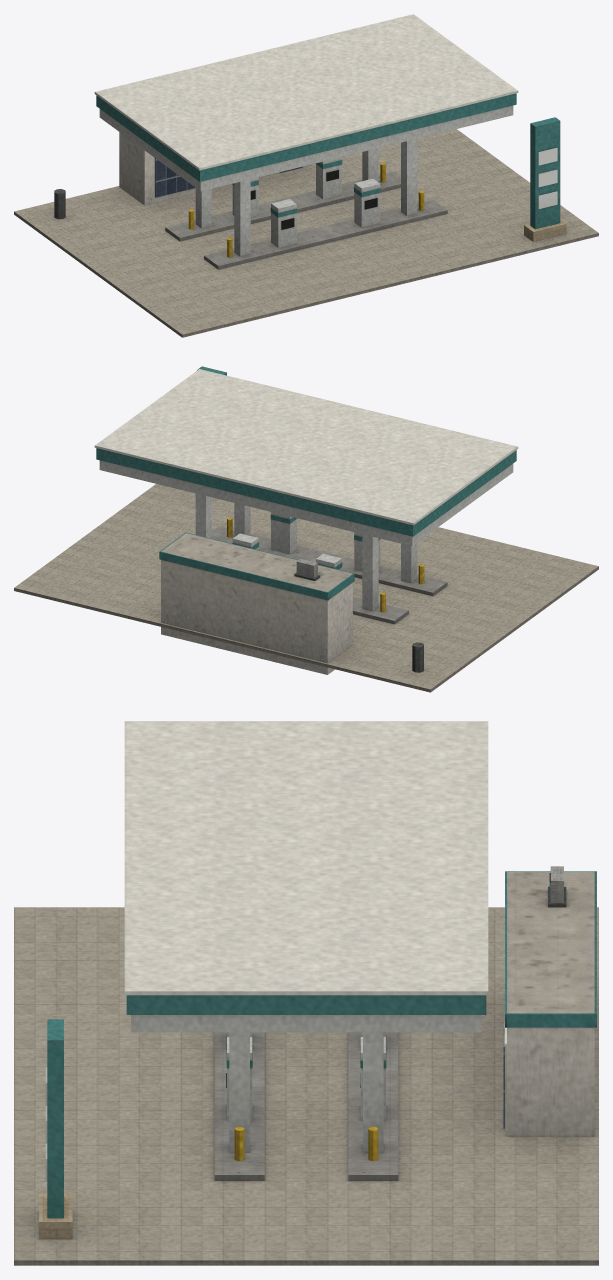
File: fuel_station.glb
3 renders of one model, top to bottom at view 1: azimuth 30°, elevation 25°; view 2: azimuth 150°, elevation 25°; view 3: azimuth 270°, elevation 25°, orthographic. The views are drawn at different scales.
Visible parts, largest first — view 1: fuel_station; view 2: fuel_station; view 3: fuel_station.
Part boxes in pixels (left/top/right/bottom): fuel_station: left=14, top=14, right=598, bottom=337; fuel_station: left=14, top=366, right=598, bottom=692; fuel_station: left=14, top=721, right=598, bottom=1265.
Size of the model in its own units: 20 by 6.55 by 14.
1 material, 1 textured.
